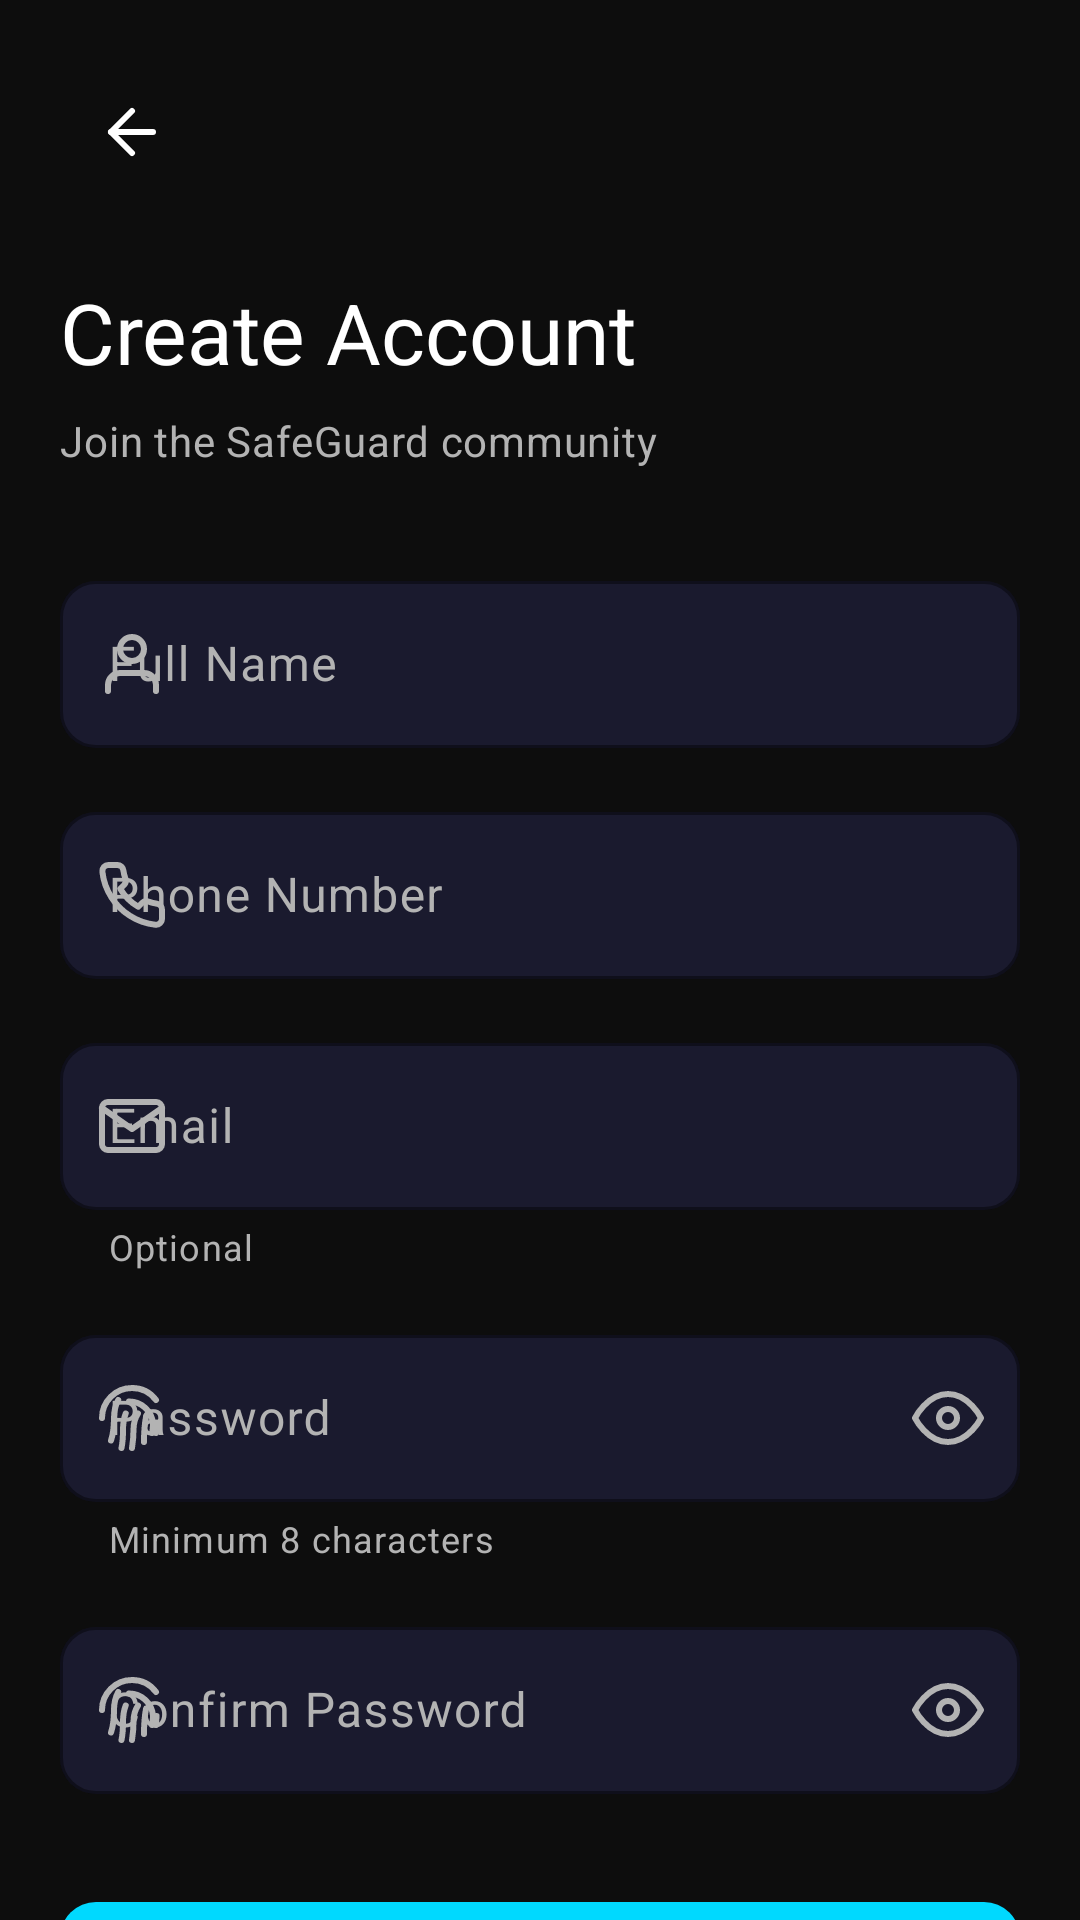

Point at icon controls on the screen. Image size 1080w x 1920h, points as (x=x, y=y).
Go back: (x=132, y=132)
